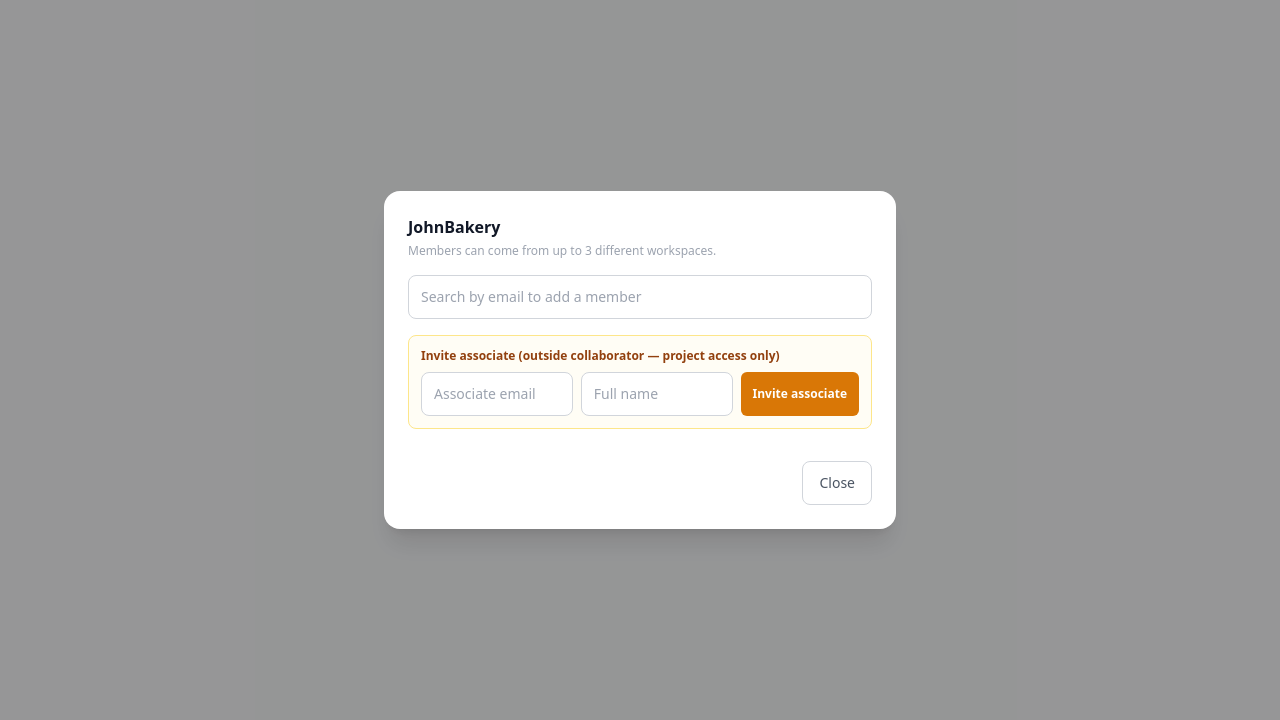
it: ProjectDetailPanel — 3-workspace cap › surfaces the cap error and does not show success when adding a 4th workspace
Type "new@x.com" into the field with placeholder "Search by email to add a member".
click(640, 297); type("new@x.com")  # box [408, 275, 872, 319]
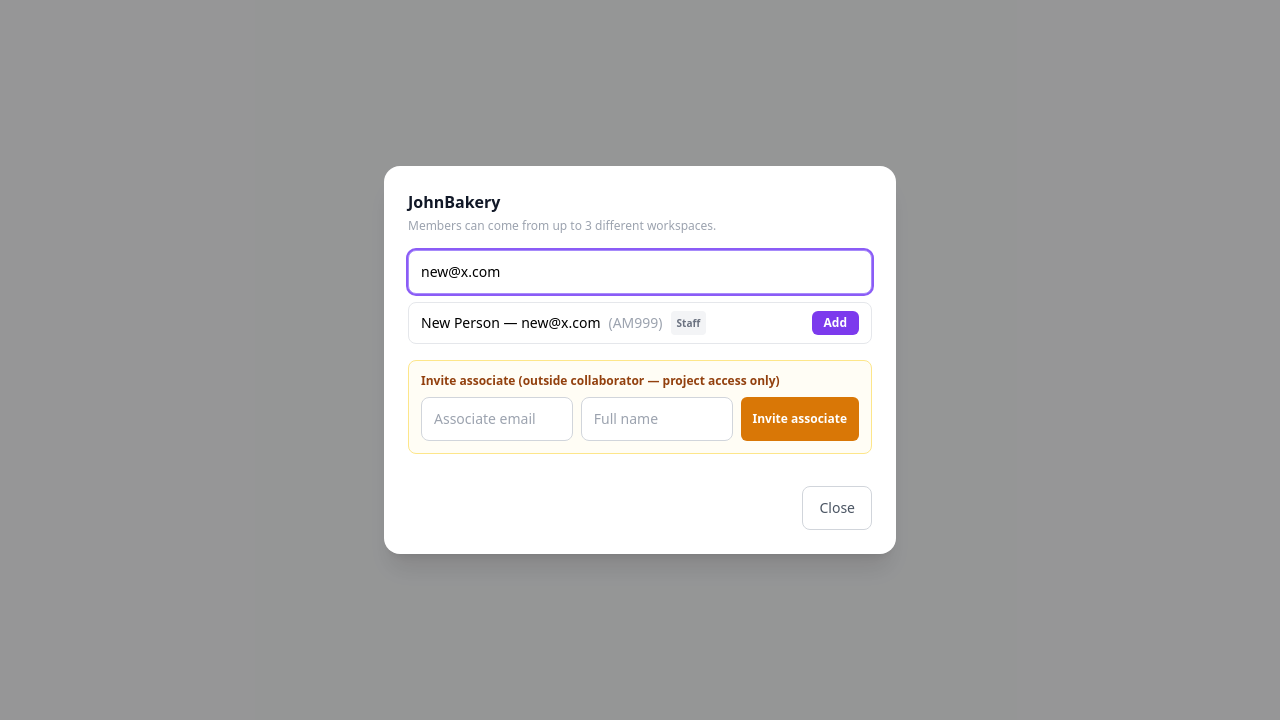
Click the button "Add".
click(835, 323)  # box [812, 311, 859, 335]
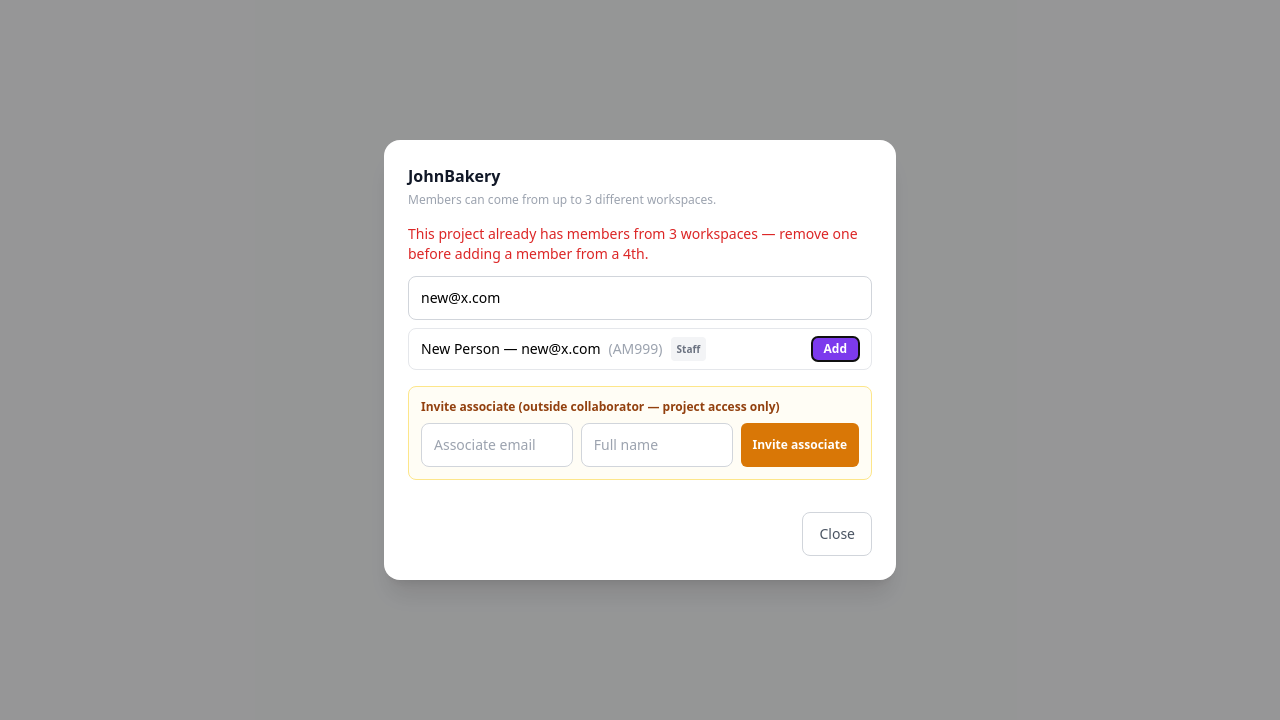
Expected: the text "3 workspaces" is shown, [408, 224, 858, 263]
